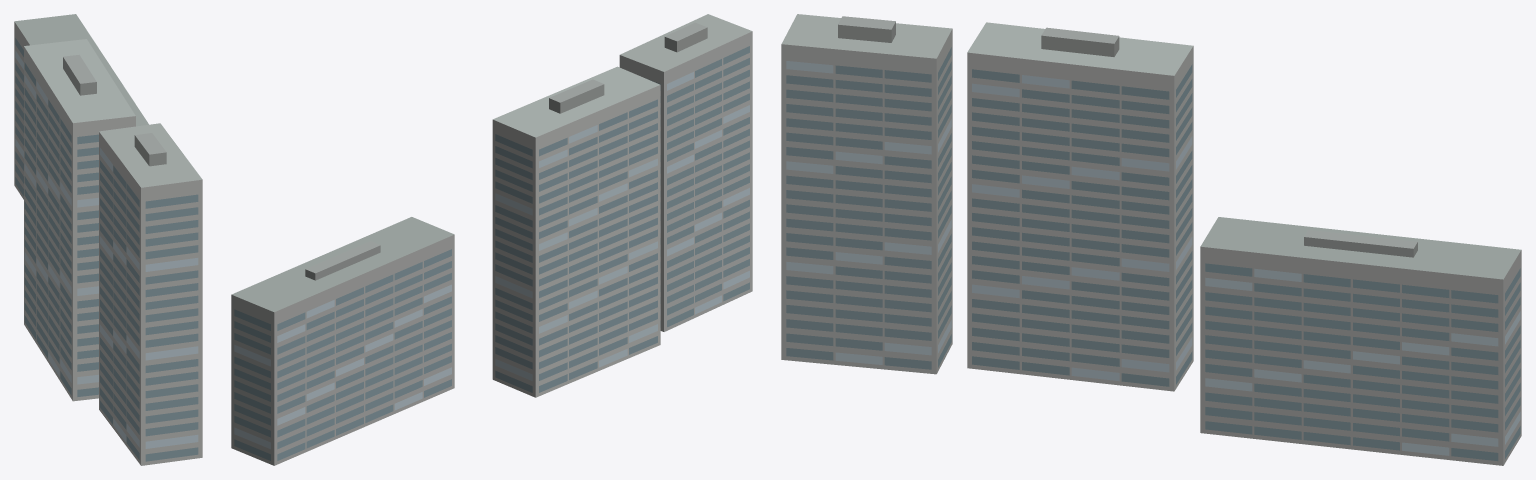
The model's file is apt-a13003402.glb.
3 renders of one model, left to right at view 1: azimuth 30°, elevation 25°; view 2: azimuth 150°, elevation 25°; view 3: azimuth 270°, elevation 25°, orthographic. The views are drawn at different scales.
Visible parts, largest first — view 1: apt-a13003402; view 2: apt-a13003402; view 3: apt-a13003402.
Boxes of the visible parts, x1,y1,x2,y2 form: apt-a13003402: (14, 14, 202, 465); apt-a13003402: (231, 14, 752, 465); apt-a13003402: (781, 14, 1521, 465).
Bounding box in the file's own units: 52.41 × 59 × 120.
